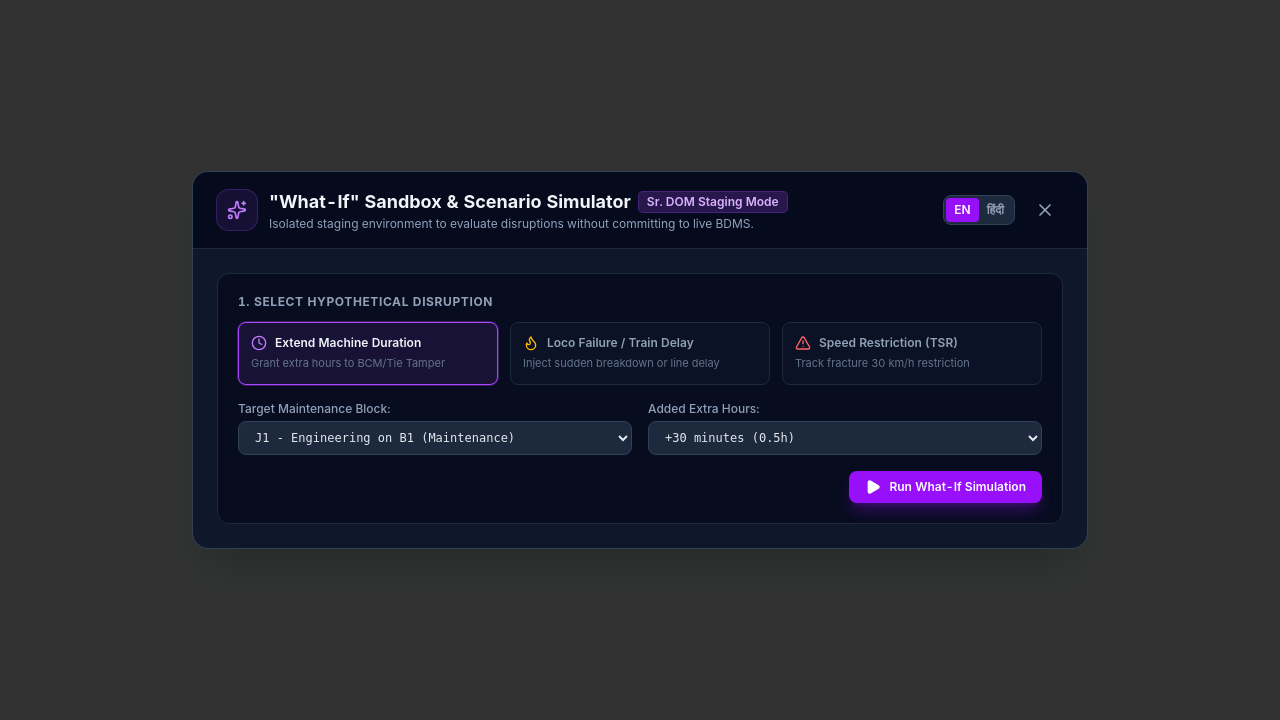
Test: What-If Scenario Simulator Modal › supports Hindi XAI translation in delta report
Click the button "Run What-If Simulation": click(946, 487) [849,471,1042,503]
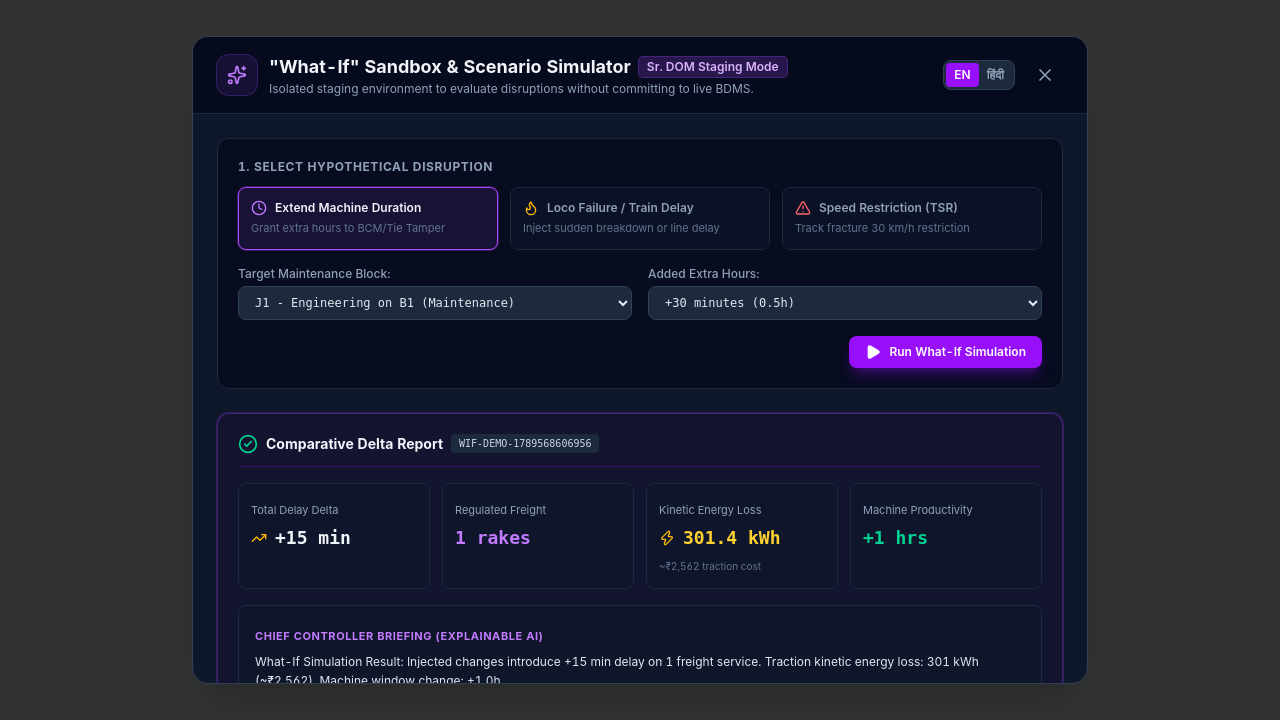
Result: the text "Comparative Delta Report" is shown at [266,434,443,454]
# Toggle Hindi
Click the button "हिंदी": click(995, 75) [979,63,1012,87]
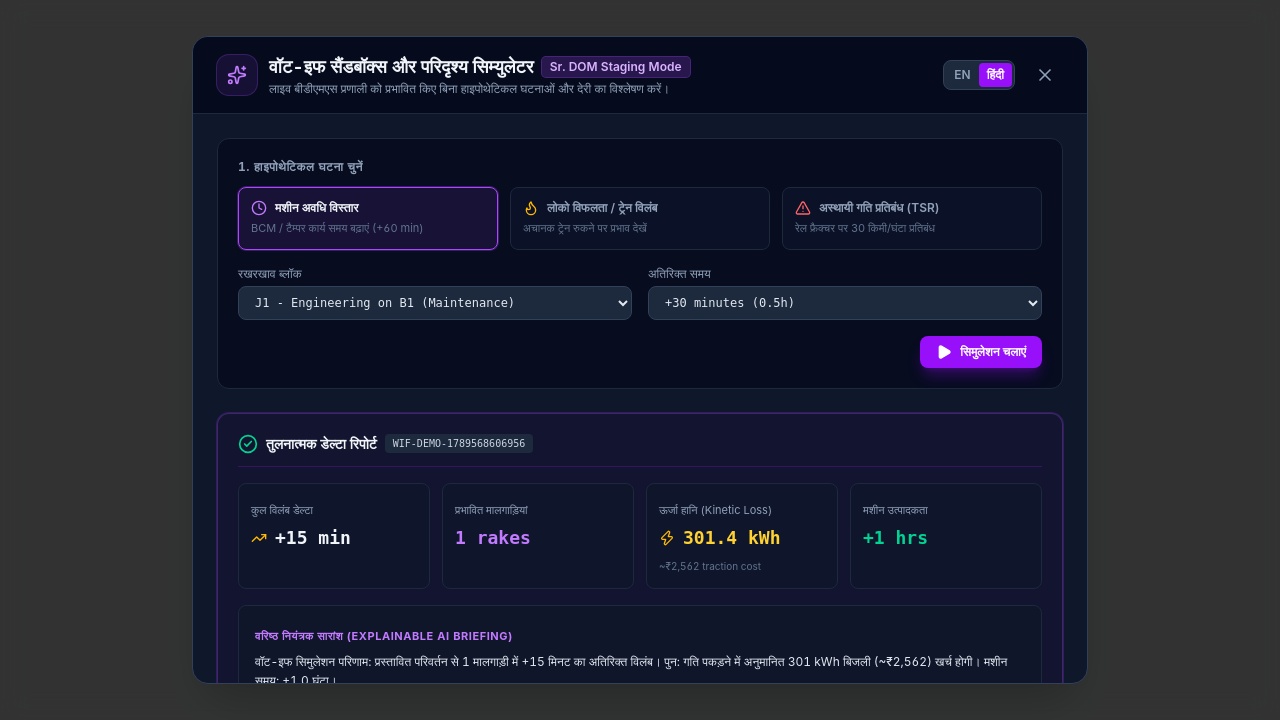
Result: the text "तुलनात्मक डेल्टा रिपोर्ट" is shown at [266,434,377,454]
